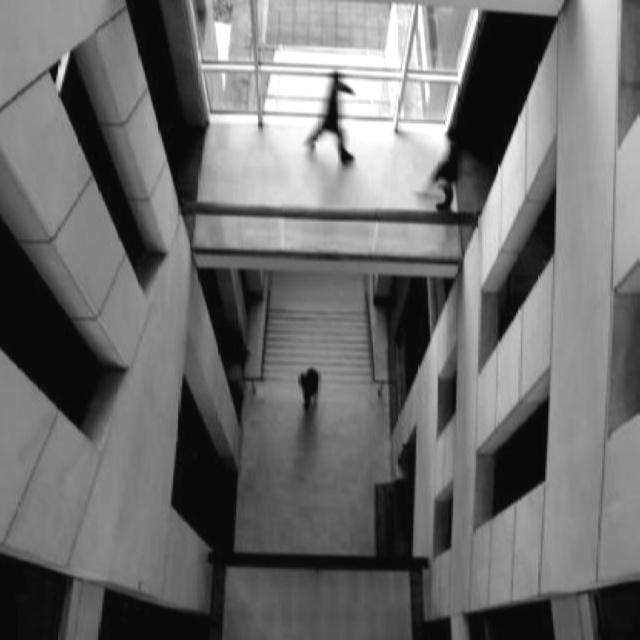stair: (262, 314, 376, 384)
